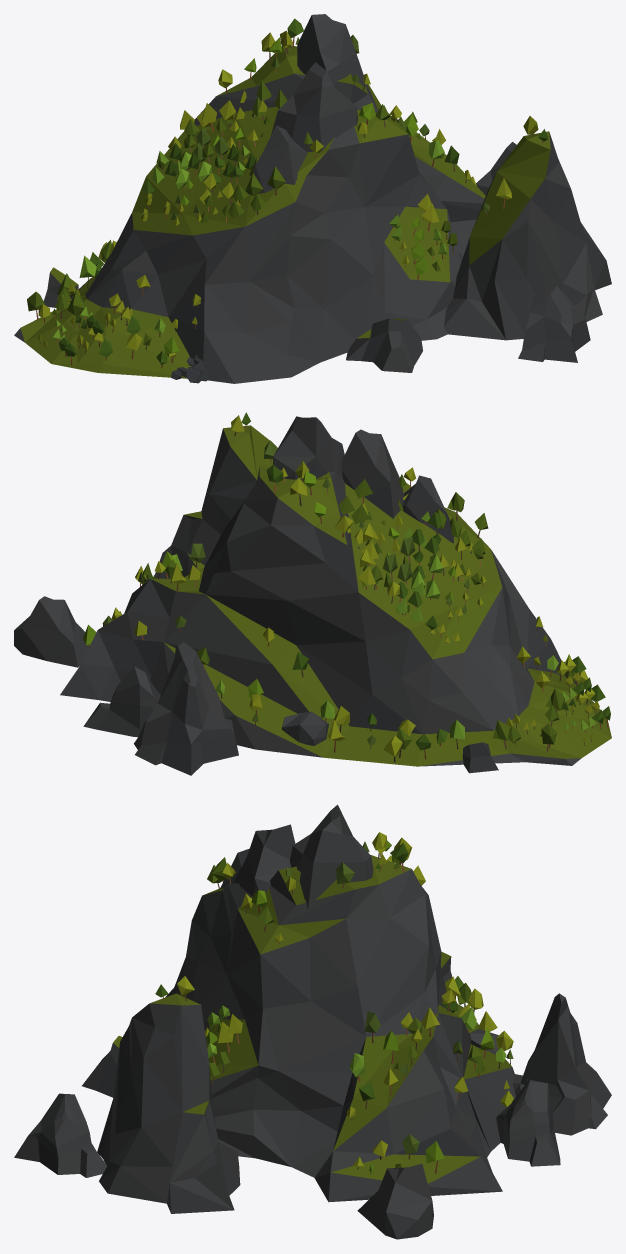
File: Open Ocean Island 1.fbx
3 views of the same model, one above another, from view 1: azimuth 30°, elevation 25°; view 2: azimuth 150°, elevation 25°; view 3: azimuth 270°, elevation 25° (orthographic). The views are drawn at different scales.
Visible parts, largest first — view 1: Island 1, Trees 1; view 2: Island 1, Trees 1; view 3: Island 1, Trees 1.
Boxes of the visible parts, x1=… form: Island 1: x1=14, y1=14, x2=611, y2=383; Trees 1: x1=27, y1=18, x2=547, y2=367; Island 1: x1=14, y1=416, x2=611, y2=775; Trees 1: x1=83, y1=412, x2=610, y2=762; Island 1: x1=14, y1=804, x2=611, y2=1239; Trees 1: x1=155, y1=832, x2=513, y2=1174.
Bounding box in the file's own units: 9388 × 4375 × 8126.
